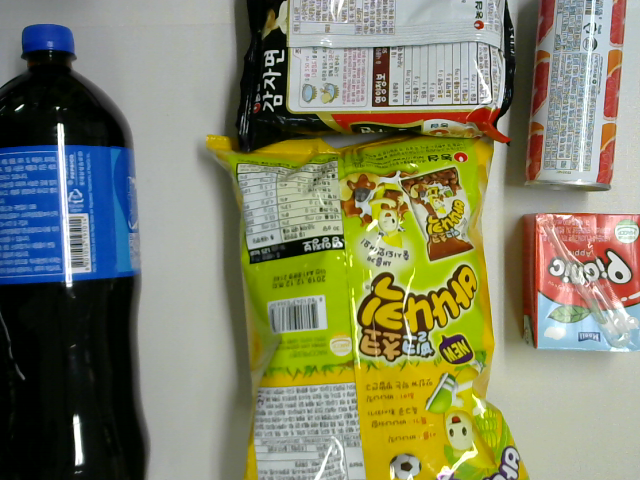Banana_Kick: (204, 132, 532, 480)
Demisoda_Grapefruit_Can_250ml: (522, 1, 628, 194)
Pepsi_Cola_1.5L: (1, 20, 154, 480)
Picnic_Apple: (519, 209, 640, 355)
Potato: (235, 1, 516, 154)
